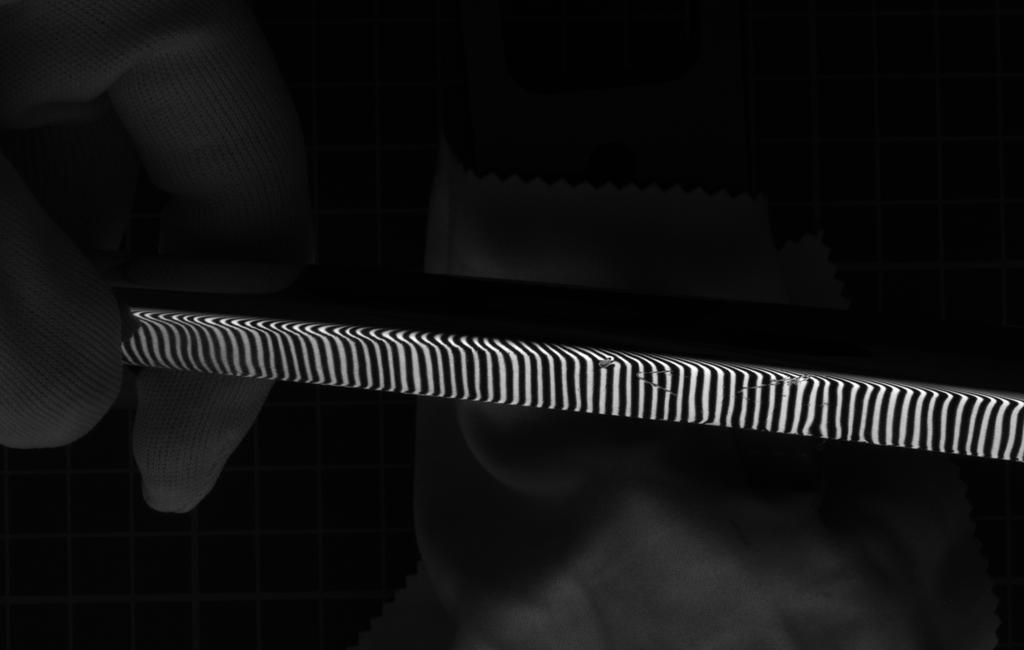Pierced: (585, 352, 628, 378)
Scratch: (726, 368, 830, 411), (624, 360, 688, 403)
